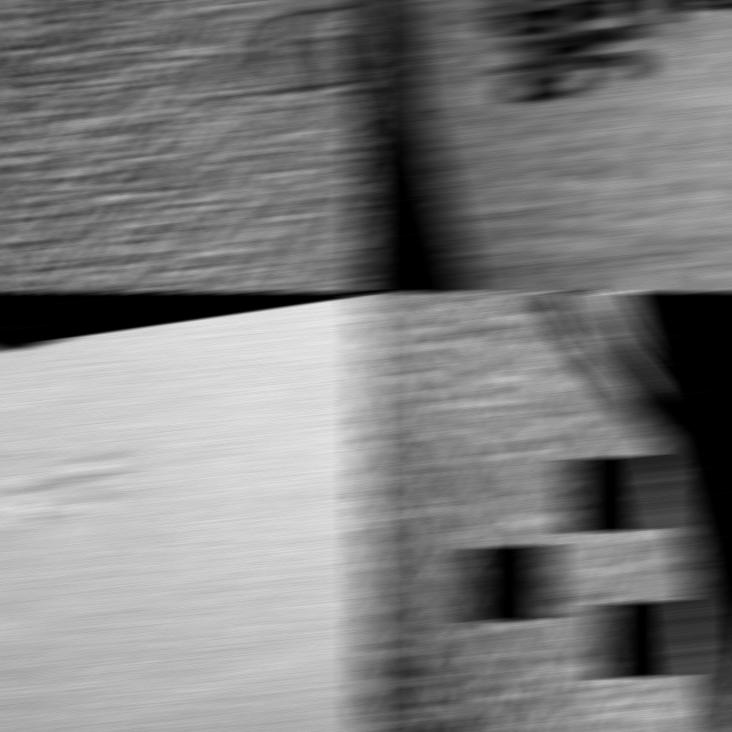Airbag: (357, 292, 732, 731), (0, 297, 375, 732), (0, 0, 374, 291), (392, 0, 732, 292)
